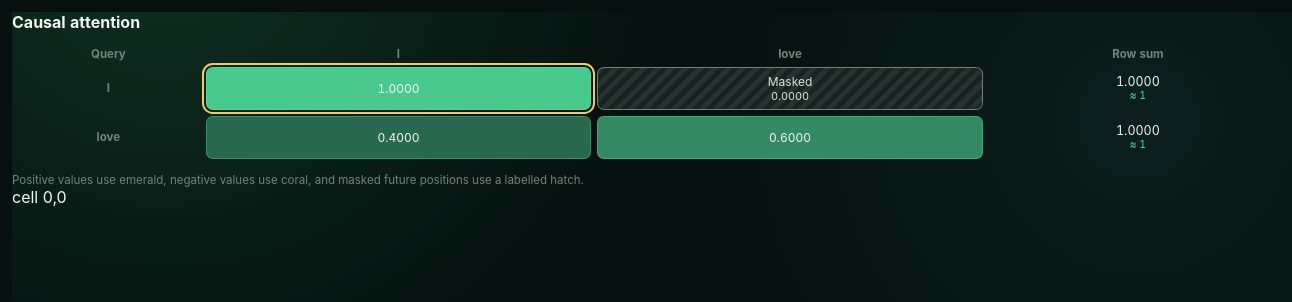
Scenario: MatrixHeatmap › updates the calculation inspector when a heatmap cell is selected
The width and height of the screenshot is (1292, 302).
Click the button named "love to I: 0.4000".
click(398, 137)  # box [206,116,591,159]
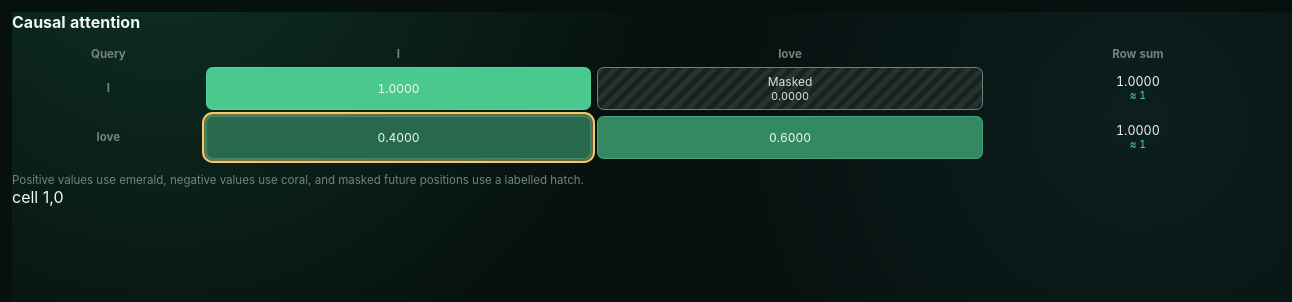
Expected: the text named "Selected calculation" reads "cell 1,0", [12,187,64,207]
